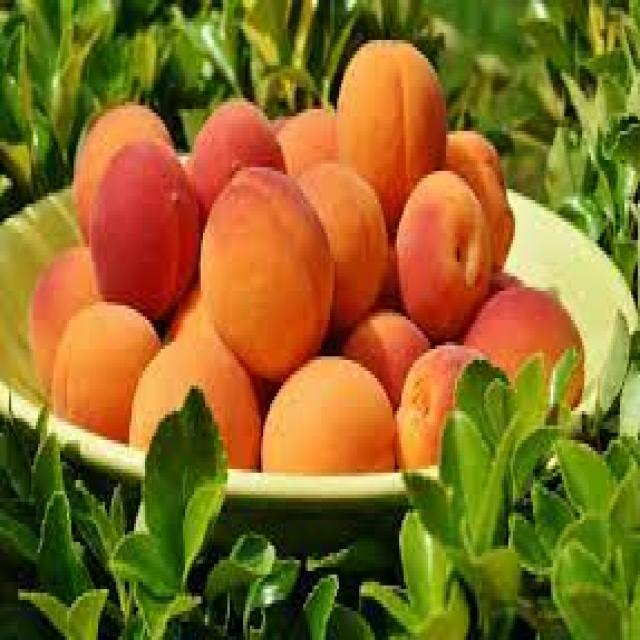kayisi: (194, 153, 329, 376), (328, 30, 455, 241), (383, 168, 505, 338), (89, 140, 203, 318)
